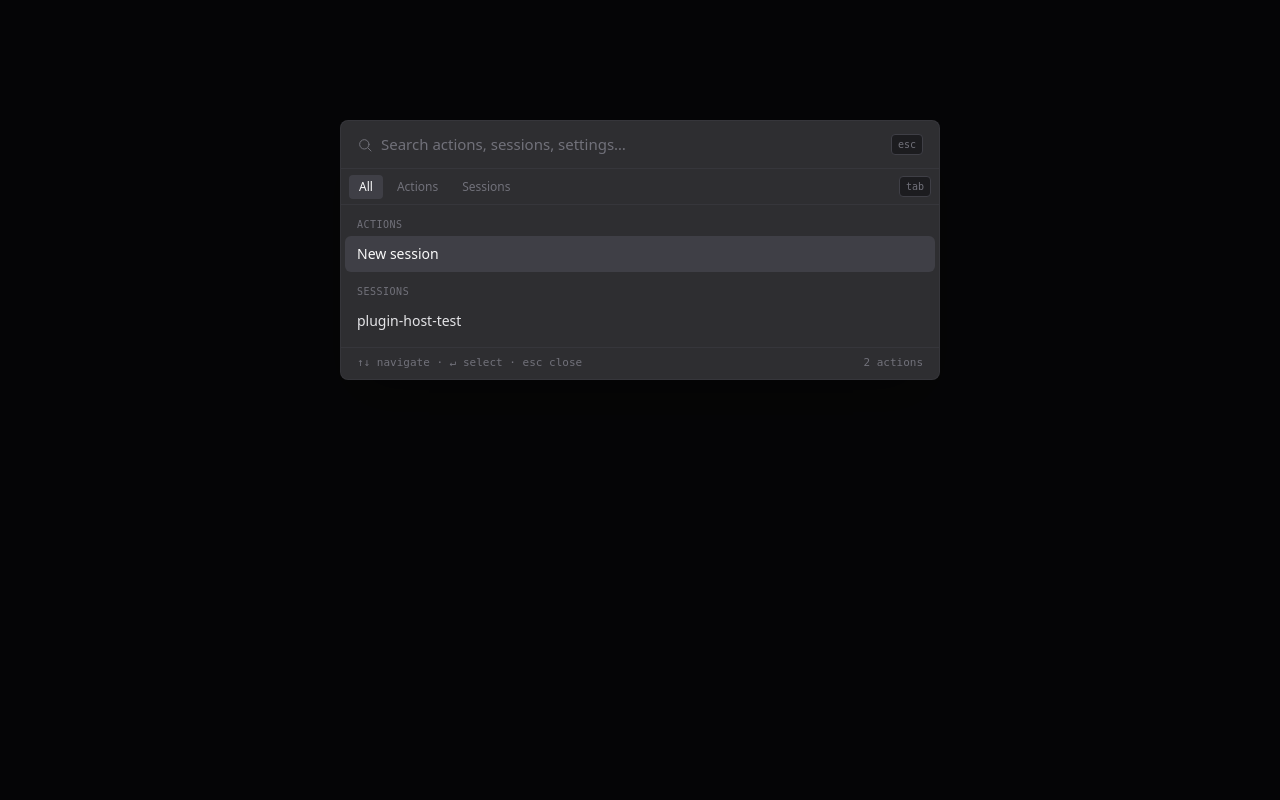
CommandPalette › category tabs › excludes scatter-only fuzzy matches while keeping real matches
Type "test" into the dropdown with placeholder "Search actions, sessions, settings…" at coordinates (632, 145), box [381, 133, 883, 156]
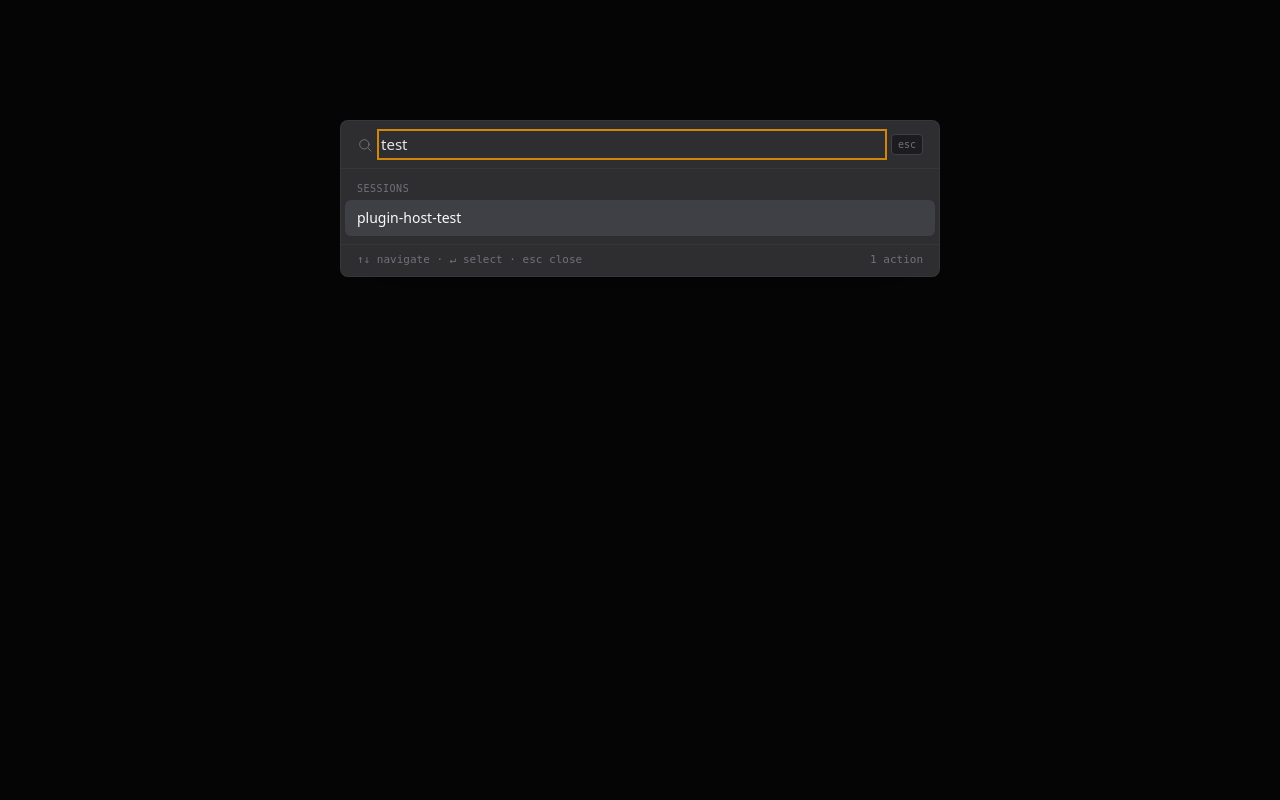
expect the text "plugin-host-test" is shown: met, box [357, 208, 461, 228]
expect the option "New session" is gone: met
expect the text "1 action" is shown: met, box [870, 252, 923, 269]
